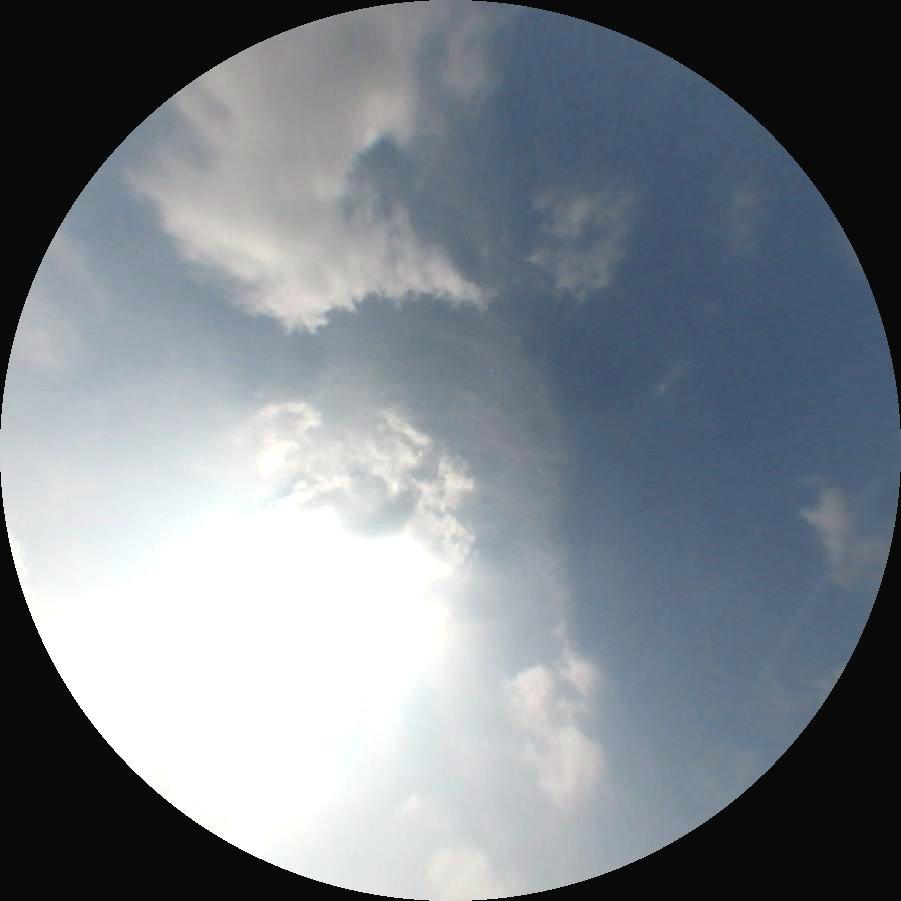sun: (193, 489, 417, 711)
unknow: (727, 572, 833, 730)
